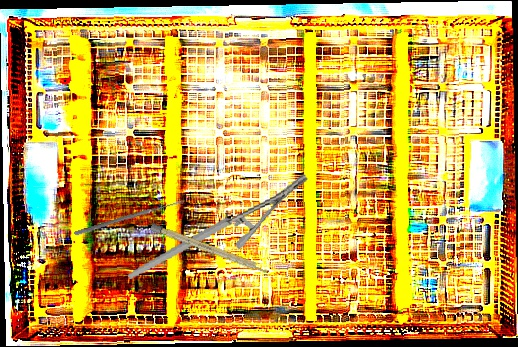Needle Holder: (116, 172, 320, 280)
Scalpel Handle: (149, 222, 271, 276)
Surgical Spoon: (73, 198, 185, 237)
